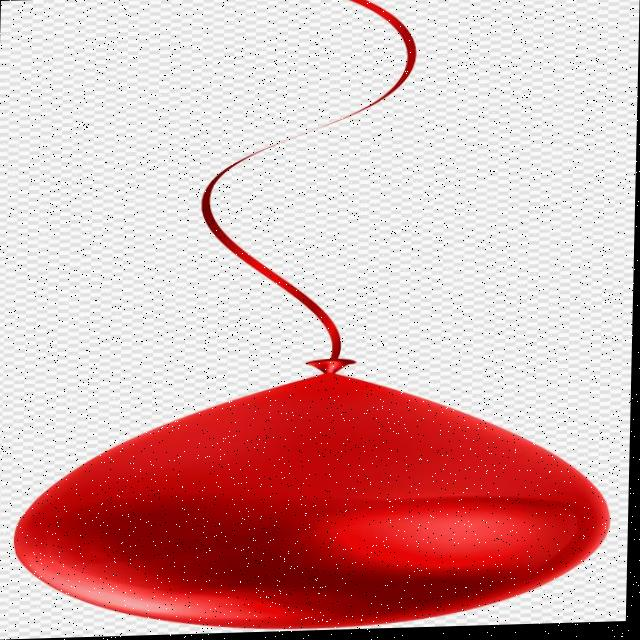balloon: (0, 353, 627, 640)
